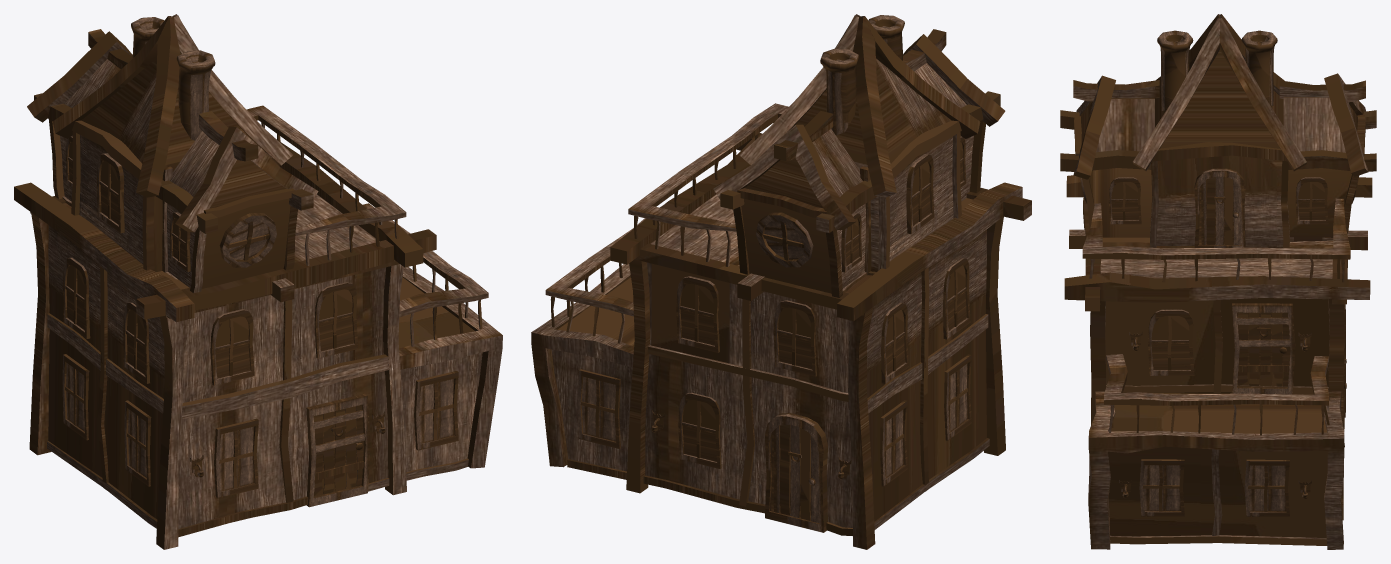
File: House-2.fbx
3 renders of one model, left to right at view 1: azimuth 30°, elevation 25°; view 2: azimuth 150°, elevation 25°; view 3: azimuth 270°, elevation 25°, orthographic. The views are drawn at different scales.
Parts seen in each view (by area): view 1: Cube.387; view 2: Cube.387; view 3: Cube.387.
Boxes of the visible parts, bbox=[...] form: Cube.387: bbox=[14, 14, 502, 549]; Cube.387: bbox=[531, 14, 1031, 549]; Cube.387: bbox=[1060, 14, 1376, 549].
Bounding box in the file's own units: 390 × 480 × 321.
